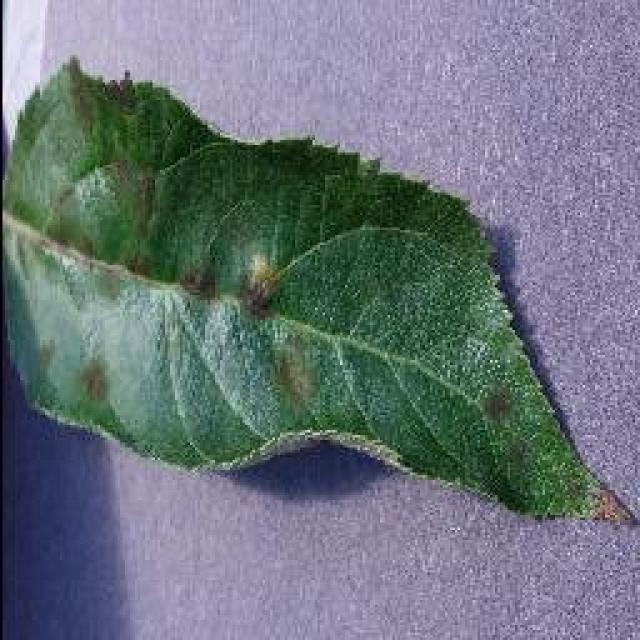apple scab disease: (0, 53, 635, 525)
